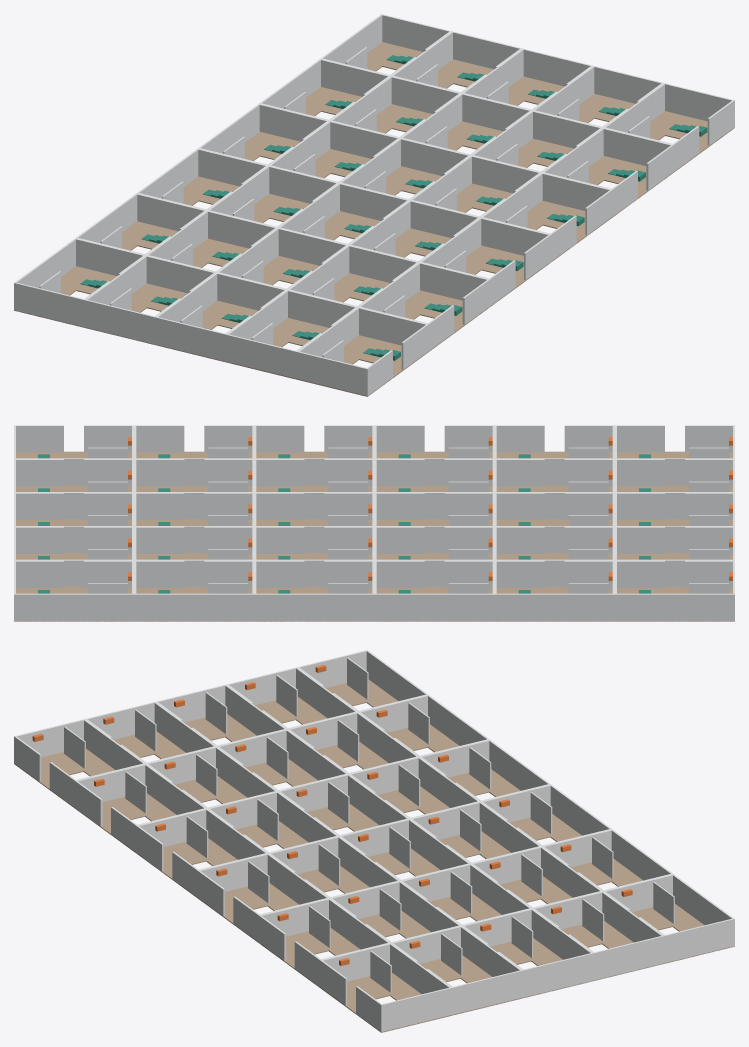
The picture shows the model from 3 angles, top to bottom: view 1: azimuth 30°, elevation 25°; view 2: azimuth 150°, elevation 25°; view 3: azimuth 270°, elevation 25°; orthographic projection.
Visible parts, largest first — view 1: mesh_0_instance_37, mesh_0_instance_1, mesh_0_instance_145, mesh_0_instance_73, mesh_0_instance_109, mesh_0_instance_158, mesh_0_instance_146, mesh_0_instance_176, mesh_0_instance_152, mesh_0_instance_20, mesh_0_instance_170, mesh_0_instance_164 (+95 smaller); view 2: mesh_0_instance_12, mesh_0_instance_30, mesh_0_instance_0, mesh_0_instance_6, mesh_0_instance_24, mesh_0_instance_18, mesh_0_instance_124, mesh_0_instance_130, mesh_0_instance_136, mesh_0_instance_160, mesh_0_instance_46, mesh_0_instance_52 (+108 smaller); view 3: mesh_0_instance_68, mesh_0_instance_32, mesh_0_instance_176, mesh_0_instance_104, mesh_0_instance_140, mesh_0_instance_102, mesh_0_instance_66, mesh_0_instance_138, mesh_0_instance_174, mesh_0_instance_30, mesh_0_instance_54, mesh_0_instance_0 (+125 smaller).
Part boxes in pixels (x1,y1,x2,y2): mesh_0_instance_37: (84, 299, 155, 344); mesh_0_instance_1: (14, 282, 85, 327); mesh_0_instance_145: (297, 351, 368, 396); mesh_0_instance_73: (155, 316, 226, 361); mesh_0_instance_109: (226, 334, 297, 378); mesh_0_instance_158: (480, 218, 551, 262); mesh_0_instance_146: (359, 307, 428, 351); mesh_0_instance_176: (664, 83, 734, 128); mesh_0_instance_152: (420, 262, 489, 307); mesh_0_instance_20: (258, 104, 328, 141); mesh_0_instance_170: (603, 128, 673, 165); mesh_0_instance_164: (541, 173, 611, 210); mesh_0_instance_12: (374, 593, 494, 621); mesh_0_instance_30: (14, 593, 134, 621); mesh_0_instance_0: (614, 593, 734, 621); mesh_0_instance_6: (494, 593, 614, 621); mesh_0_instance_24: (134, 593, 254, 621); mesh_0_instance_18: (254, 593, 374, 621); mesh_0_instance_124: (374, 459, 424, 486); mesh_0_instance_130: (254, 459, 304, 486); mesh_0_instance_136: (134, 459, 184, 486); mesh_0_instance_160: (374, 425, 424, 452); mesh_0_instance_46: (496, 526, 544, 553); mesh_0_instance_52: (376, 526, 424, 553); mesh_0_instance_68: (593, 935, 664, 980); mesh_0_instance_32: (663, 918, 734, 962); mesh_0_instance_176: (380, 987, 451, 1032); mesh_0_instance_104: (522, 952, 593, 997); mesh_0_instance_140: (451, 970, 522, 1014); mesh_0_instance_102: (531, 908, 593, 980); mesh_0_instance_66: (601, 891, 664, 963); mesh_0_instance_138: (460, 926, 522, 998); mesh_0_instance_174: (389, 943, 451, 1014); mesh_0_instance_30: (673, 874, 734, 945); mesh_0_instance_54: (479, 802, 541, 852); mesh_0_instance_0: (366, 650, 428, 700).
Bounding box in the file's own units: 98.82 × 3.6 × 84.77.
